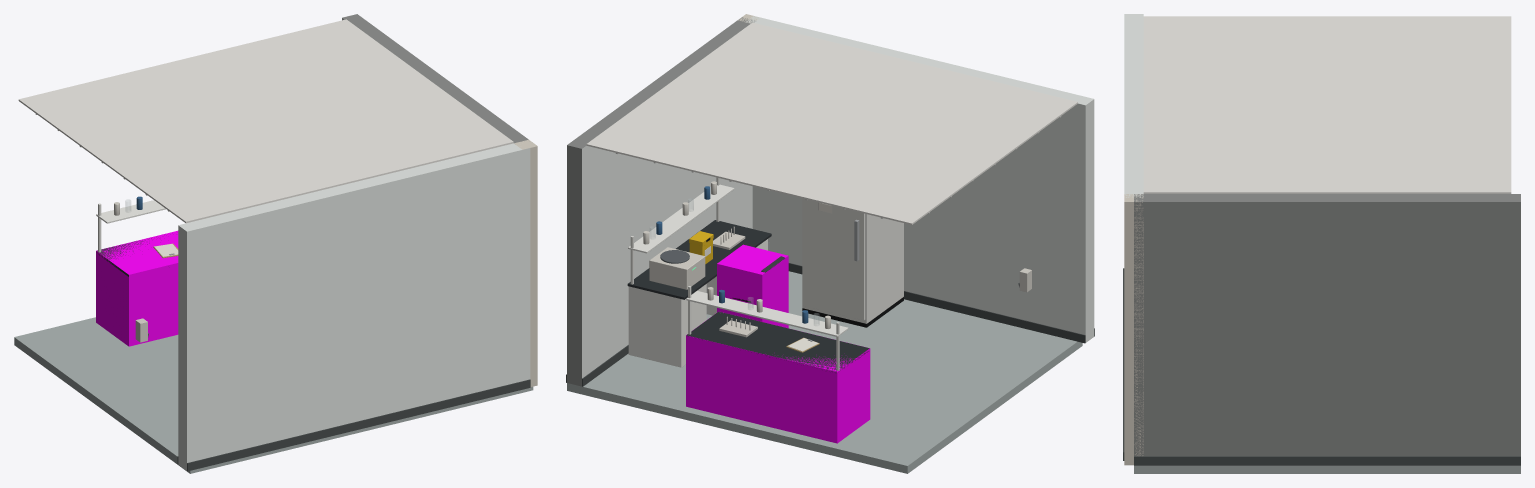
Rendered from ENV_LabSupport.glb.
3 renders of one model, left to right at view 1: azimuth 30°, elevation 25°; view 2: azimuth 150°, elevation 25°; view 3: azimuth 270°, elevation 25°, orthographic. The views are drawn at different scales.
Parts seen in each view (by area): view 1: ENV_LabSupport_Architecture, ENV_LabSupport_Ceiling, PROP_Bench_Lab_2m_COL-colonly.001, ENV_LabSupport_Posts, PROP_Bench_Lab_2m_Mesh.001; view 2: ENV_LabSupport_Architecture, ENV_LabSupport_Ceiling, PROP_Bench_Lab_2m_COL-colonly.001, PROP_Freezer_Upright_ULT_Mesh, PROP_Bench_Lab_2m_Mesh, PROP_Bench_Lab_2m_Mesh.001, PROP_Chair_Office_COL-colonly.012, PROP_Centrifuge_Benchtop_Mesh, PROP_Bin_Sharps_Mesh; view 3: ENV_LabSupport_Architecture, ENV_LabSupport_Ceiling, ENV_LabSupport_Posts.
Boxes of the visible parts, bbox=[...] form: ENV_LabSupport_Architecture: bbox=[14, 14, 533, 473]; ENV_LabSupport_Ceiling: bbox=[18, 19, 513, 223]; PROP_Bench_Lab_2m_COL-colonly.001: bbox=[96, 230, 178, 346]; ENV_LabSupport_Posts: bbox=[514, 139, 537, 386]; PROP_Bench_Lab_2m_Mesh.001: bbox=[96, 196, 165, 276]; ENV_LabSupport_Architecture: bbox=[566, 16, 1094, 473]; ENV_LabSupport_Ceiling: bbox=[586, 22, 1077, 224]; PROP_Bench_Lab_2m_COL-colonly.001: bbox=[686, 312, 870, 443]; PROP_Freezer_Upright_ULT_Mesh: bbox=[802, 198, 903, 327]; PROP_Bench_Lab_2m_Mesh: bbox=[627, 177, 771, 367]; PROP_Bench_Lab_2m_Mesh.001: bbox=[686, 286, 869, 372]; PROP_Chair_Office_COL-colonly.012: bbox=[717, 244, 788, 328]; PROP_Centrifuge_Benchtop_Mesh: bbox=[649, 247, 705, 289]; PROP_Bin_Sharps_Mesh: bbox=[689, 231, 713, 264]; ENV_LabSupport_Architecture: bbox=[1123, 14, 1520, 473]; ENV_LabSupport_Ceiling: bbox=[1143, 16, 1511, 193]; ENV_LabSupport_Posts: bbox=[1124, 194, 1143, 465].
Size of what is drawn, in the model's own units: 4.61 by 3.12 by 4.11.
